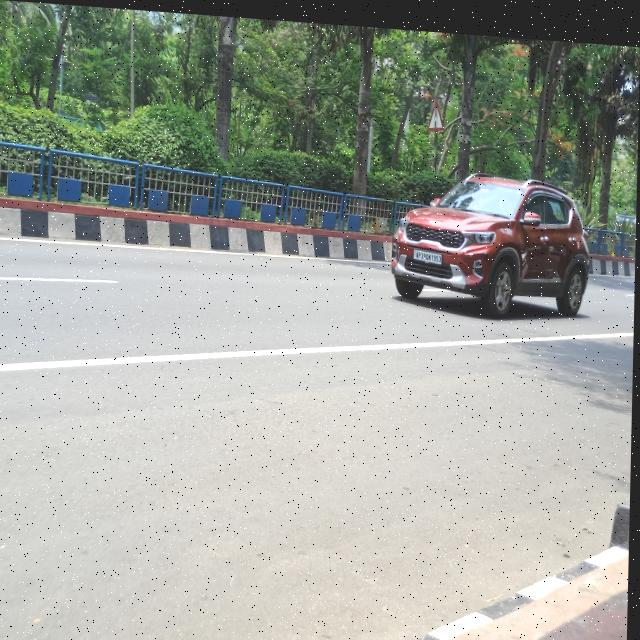car: (392, 145, 604, 324)
